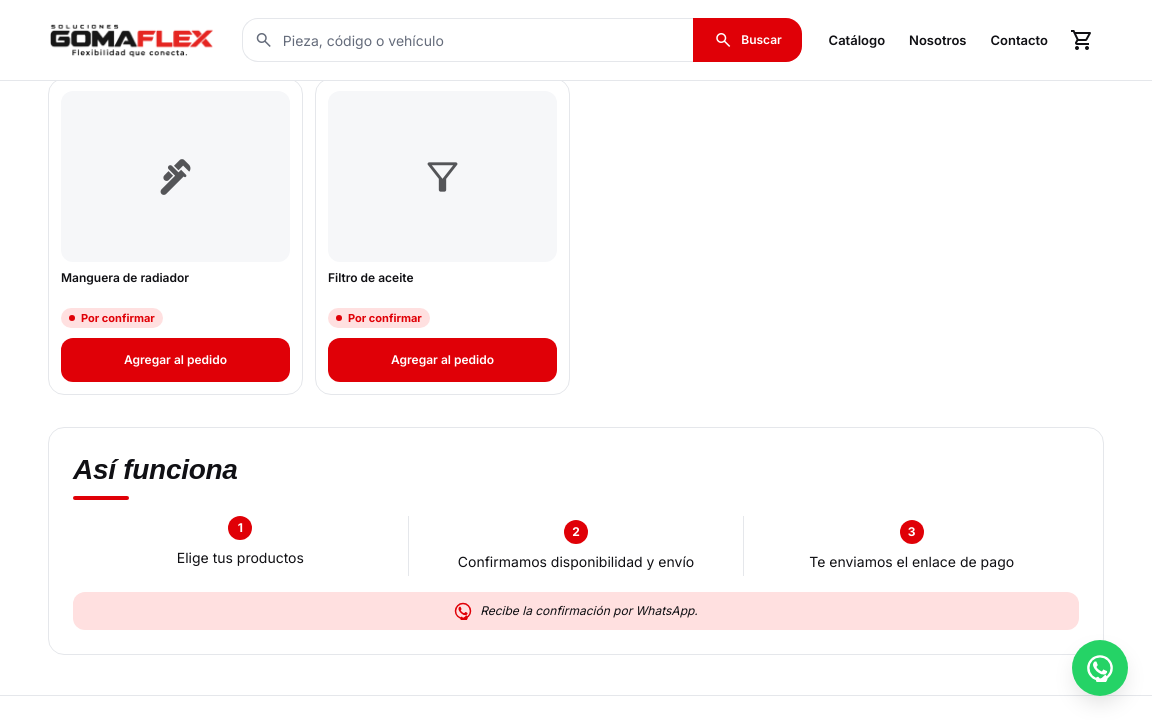
it: Home (landing) › agrega un producto al pedido y deshabilita el botón
(page scrolled)
Click the button "Agregar al pedido" below "Manguera de radiador" at (176, 360), box [61,338,290,382]
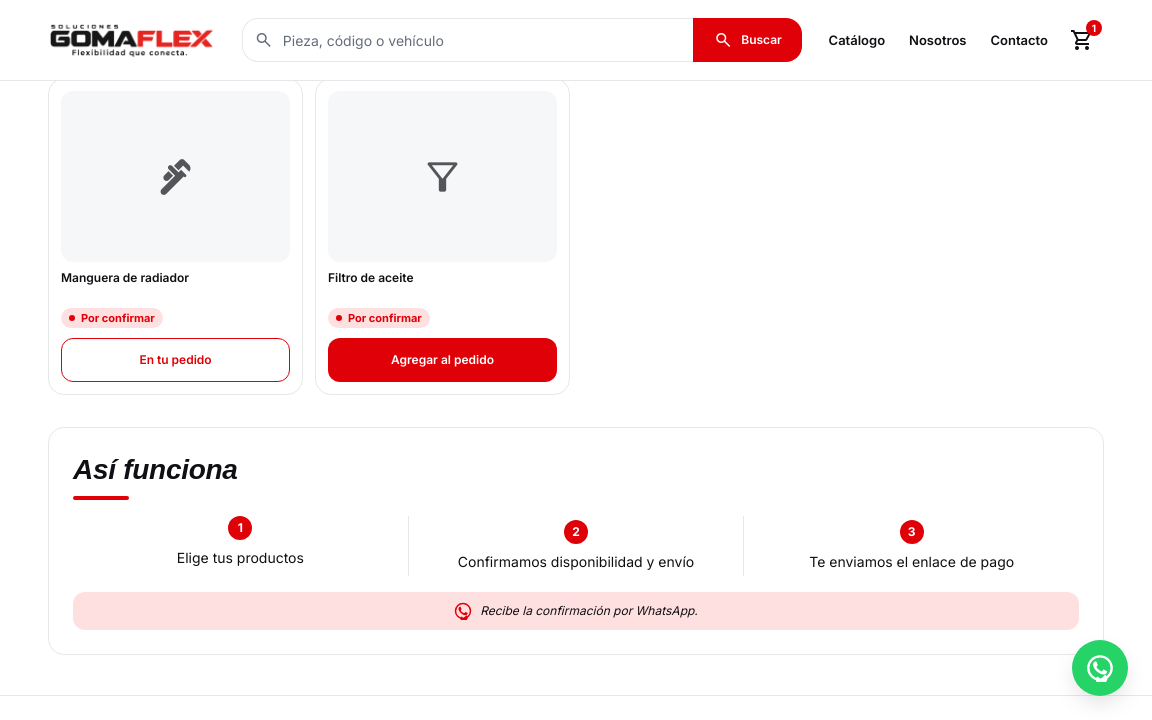
Expected: the button "En tu pedido" is disabled, [61,338,290,382]
